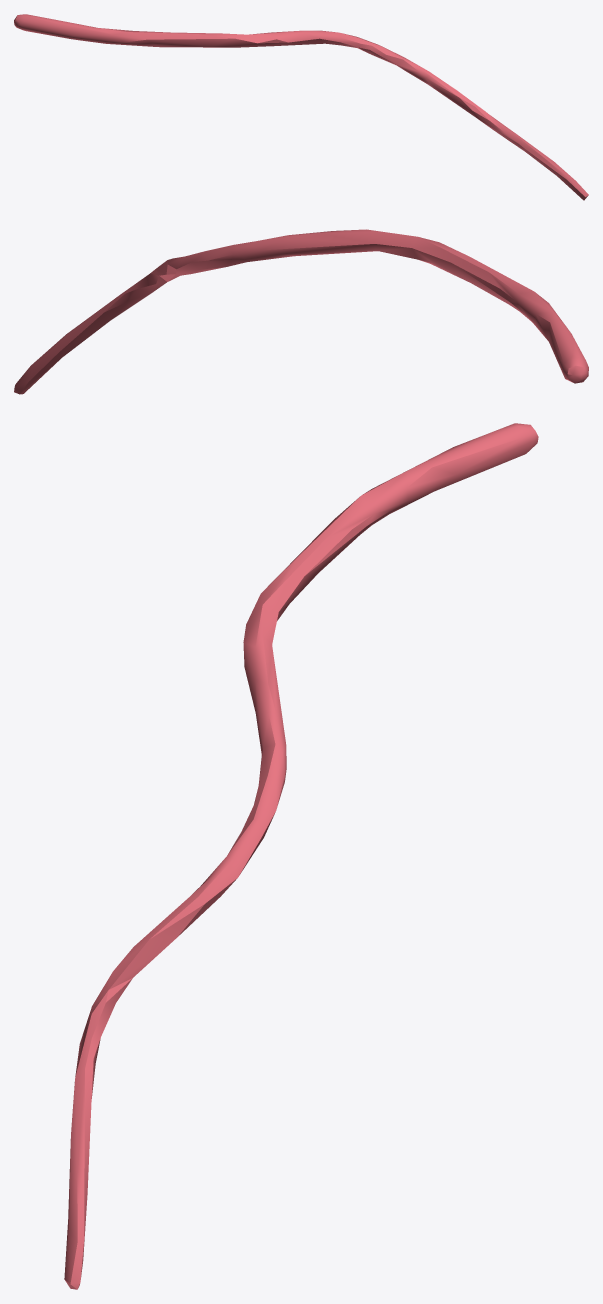
The model's file is fma14747_fj3516.glb.
The picture shows the model from 3 angles, top to bottom: view 1: azimuth 30°, elevation 25°; view 2: azimuth 150°, elevation 25°; view 3: azimuth 270°, elevation 25°; orthographic projection. The views are drawn at different scales.
Parts seen in each view (by area): view 1: FMA14747_FJ3516; view 2: FMA14747_FJ3516; view 3: FMA14747_FJ3516.
Part boxes in pixels (box(x1,y1,x2,y2)): FMA14747_FJ3516: box(14, 14, 588, 200); FMA14747_FJ3516: box(14, 229, 588, 394); FMA14747_FJ3516: box(64, 423, 538, 1289).
Bounding box in the file's own units: 0.0601 × 0.0266 × 0.0267.
